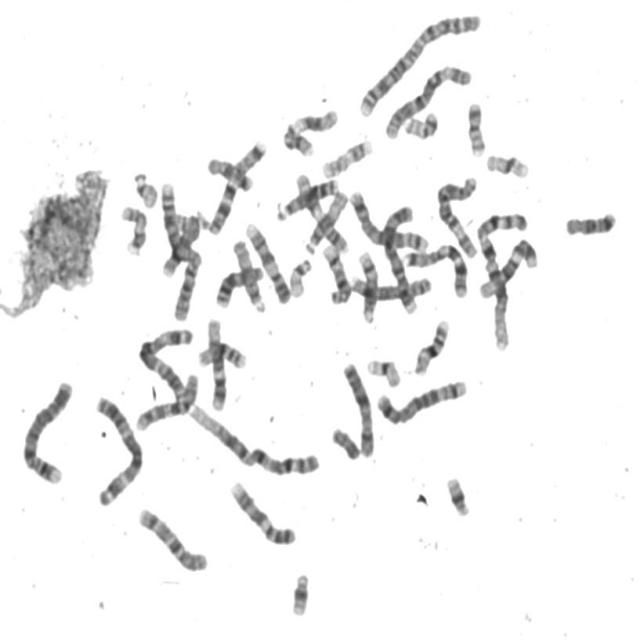A1: (184, 398, 323, 478), (473, 203, 530, 350)
A2: (354, 7, 483, 119), (158, 176, 204, 323)
A3: (91, 390, 146, 508), (134, 323, 196, 401)
B4: (18, 375, 76, 486), (380, 200, 419, 314)
B5: (344, 182, 432, 252), (373, 373, 470, 427)
C10: (134, 502, 211, 574), (132, 367, 202, 433)
C11: (292, 167, 351, 256), (279, 102, 341, 156)
C12: (476, 232, 540, 300), (204, 313, 228, 412)
C6: (381, 59, 474, 141), (432, 172, 481, 259)
C7: (206, 134, 270, 236), (398, 238, 471, 300)
C8: (161, 204, 204, 284), (344, 268, 436, 302)
C9: (226, 474, 298, 548), (241, 217, 292, 306)
D13: (272, 171, 340, 222), (212, 260, 267, 310)
D14: (319, 239, 353, 306), (354, 246, 381, 325)
D15: (299, 180, 351, 256), (229, 234, 268, 314)
E16: (410, 313, 452, 377), (194, 337, 249, 370)
E17: (318, 132, 375, 180), (116, 200, 150, 256)
E18: (204, 151, 255, 193), (562, 206, 619, 238)
F19: (482, 147, 532, 180), (363, 353, 403, 389)
F20: (463, 96, 488, 158), (400, 106, 441, 140)
G21: (442, 471, 472, 519), (286, 567, 312, 618)
G22: (130, 167, 161, 210), (286, 253, 314, 299)
X: (339, 358, 378, 460)
Y: (328, 422, 363, 461)
